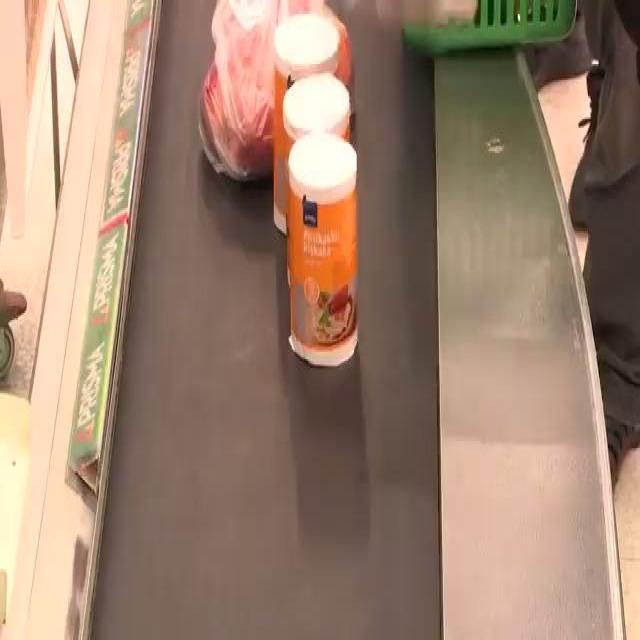food-box: (290, 157, 360, 360), (278, 22, 336, 216), (288, 79, 348, 221)
vegetable: (208, 16, 361, 178)
